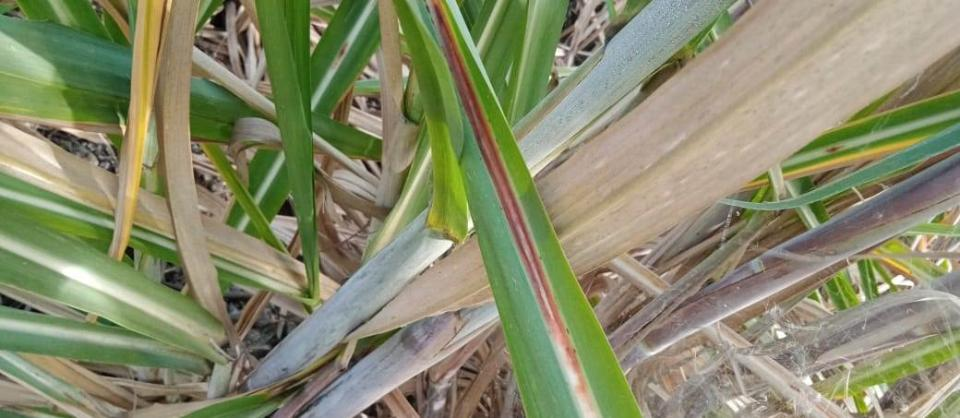RedRot: (431, 0, 595, 410)
